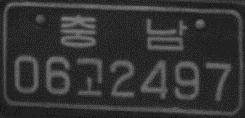0: (13, 54, 39, 95)
2: (109, 58, 135, 98)
4: (140, 58, 168, 99)
6: (44, 55, 71, 96)
7: (205, 60, 231, 101)
9: (173, 60, 200, 101)
고: (75, 56, 105, 97)
충남_D: (60, 14, 186, 51)
